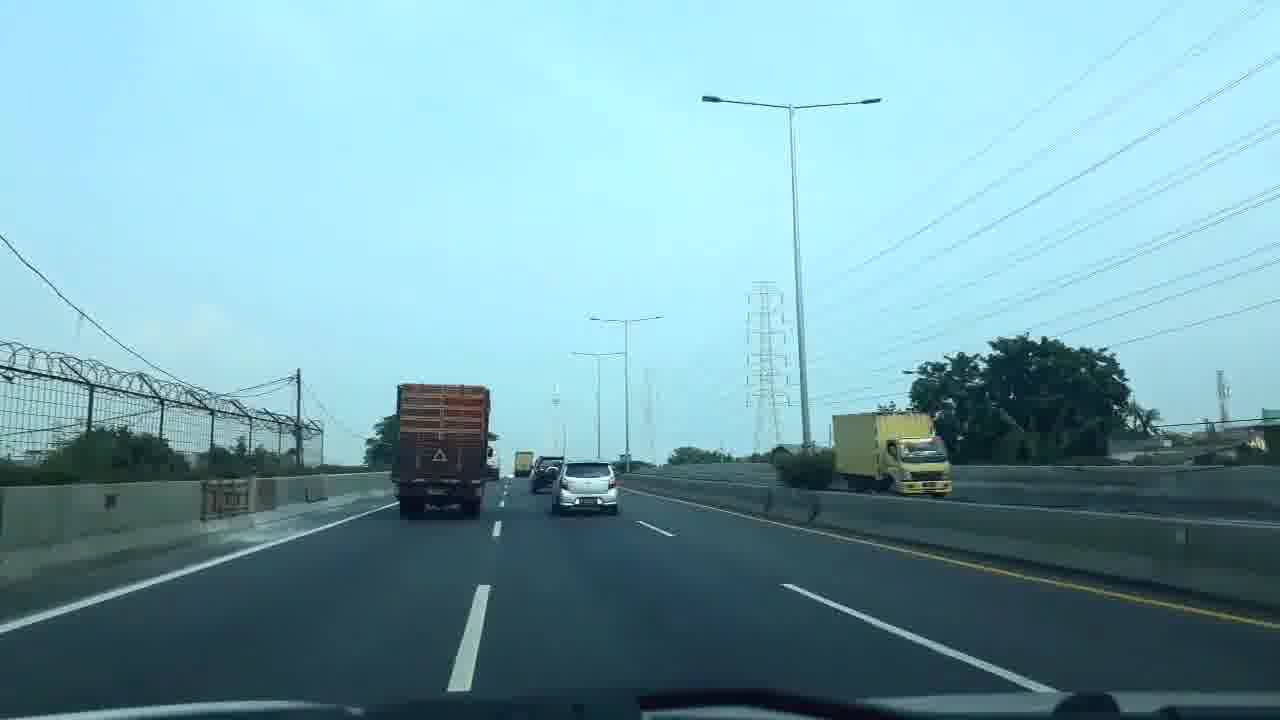plate_positive: (425, 487, 449, 496), (579, 497, 598, 505)
